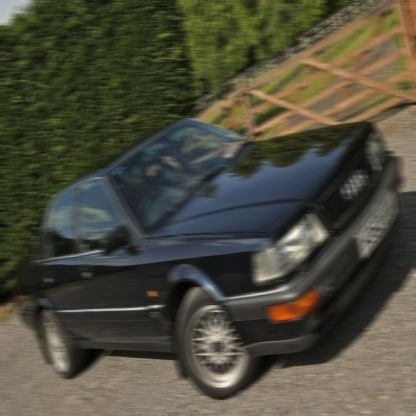Vehicle: (14, 114, 405, 397)
